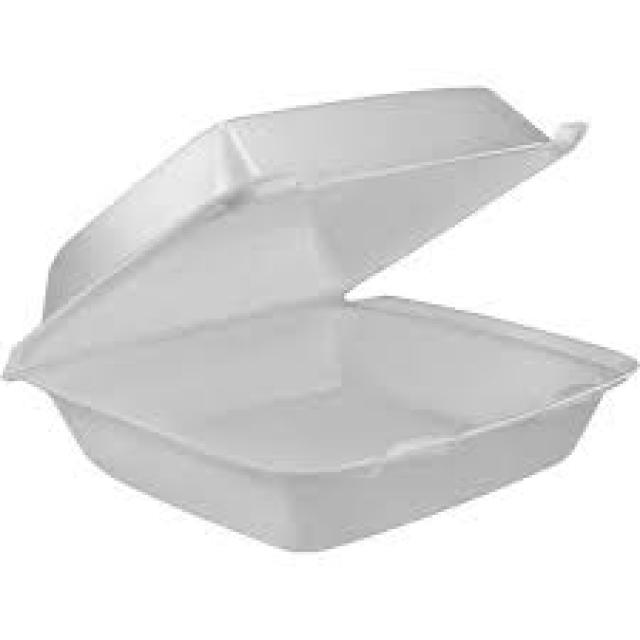styrofoam: (6, 89, 635, 549)
